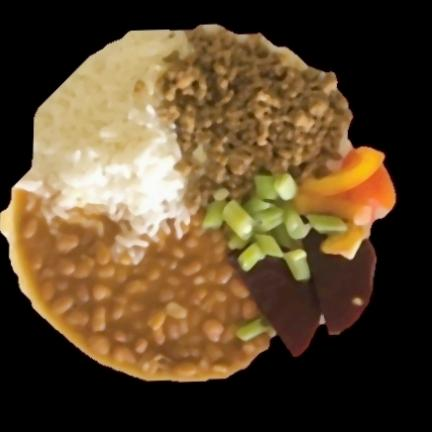beans: (4, 189, 265, 380)
beet: (227, 232, 376, 358)
green_beans: (200, 170, 346, 280)
meat: (165, 32, 351, 204)
rice: (28, 31, 192, 250)
tomato: (297, 149, 395, 256)
